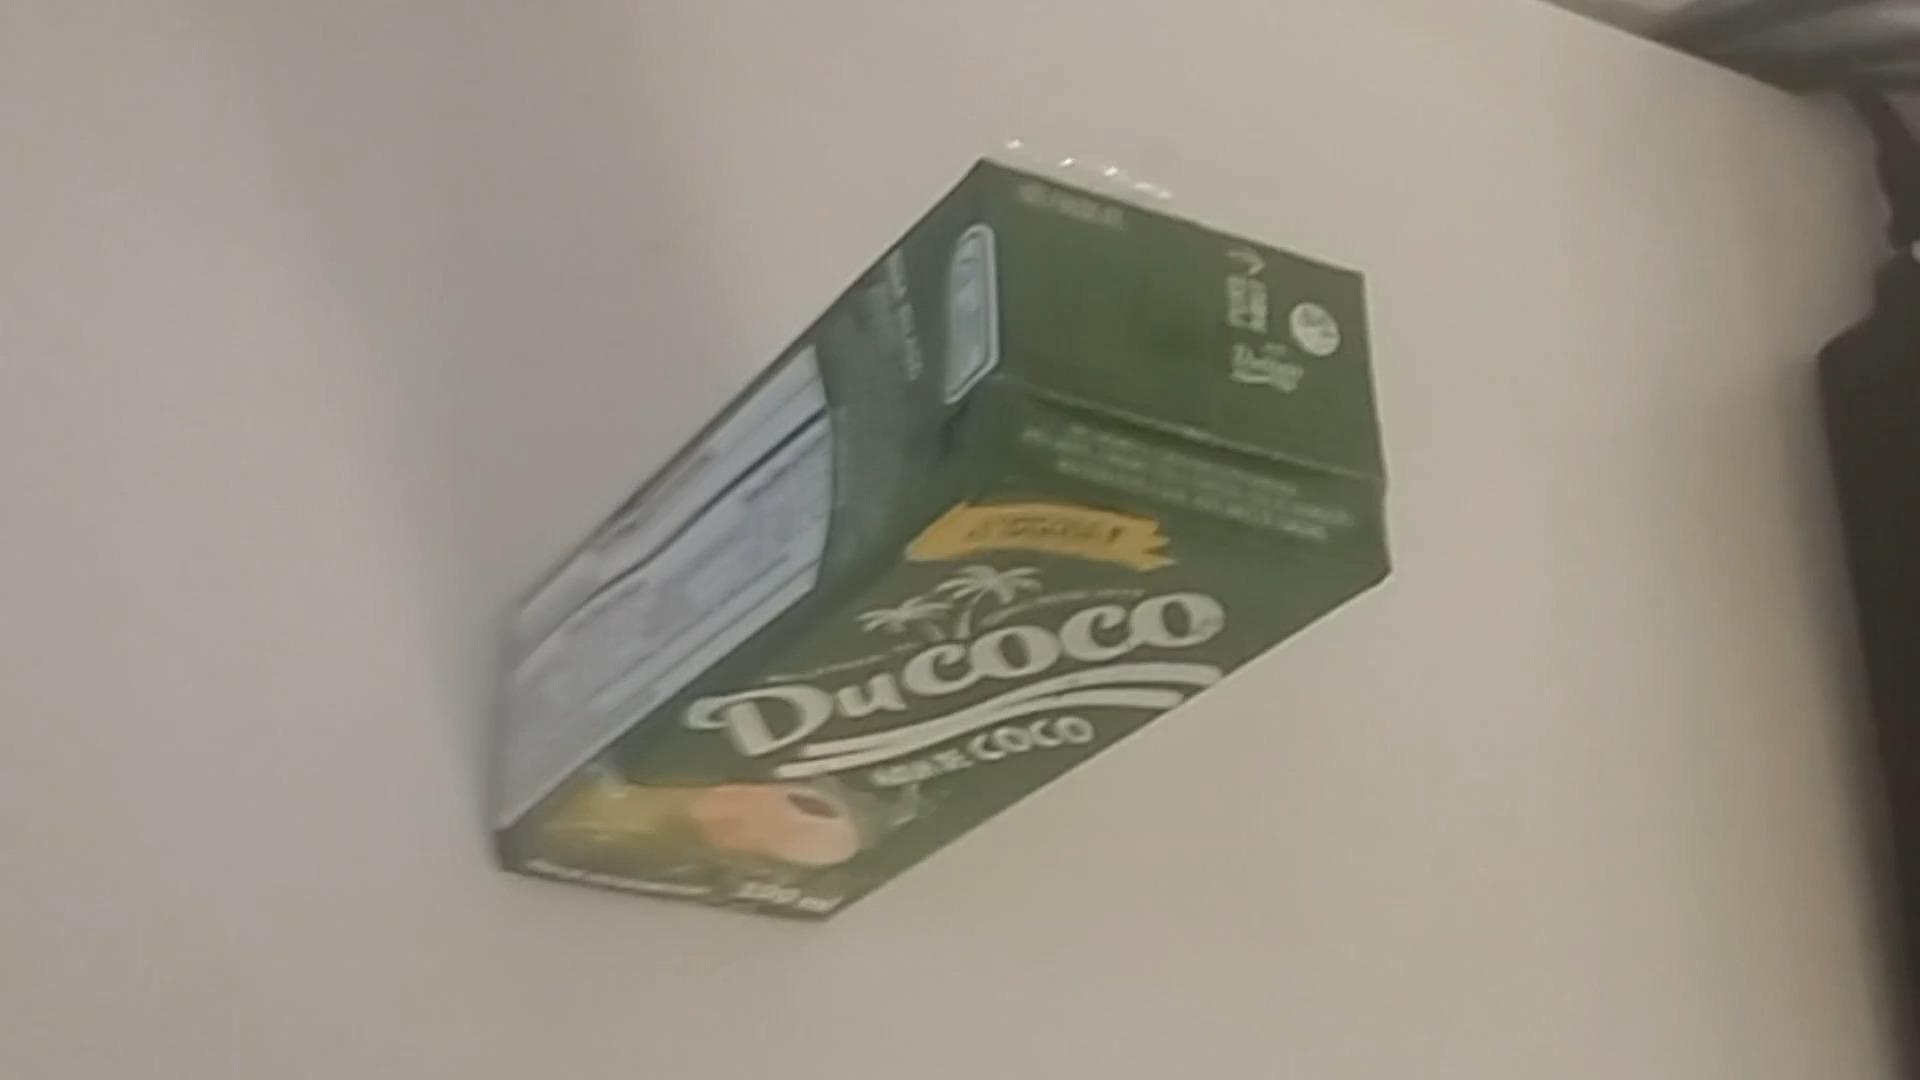coco: (488, 154, 1386, 924)
